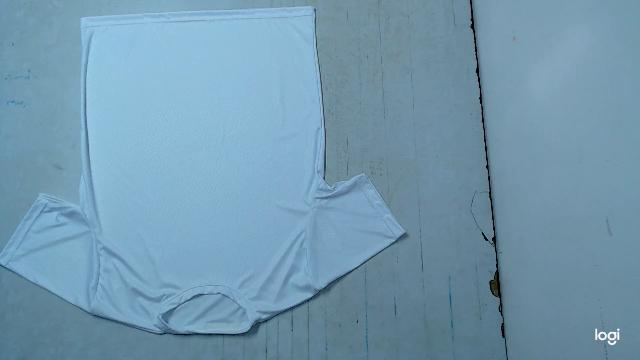new-garment: (0, 7, 404, 334)
